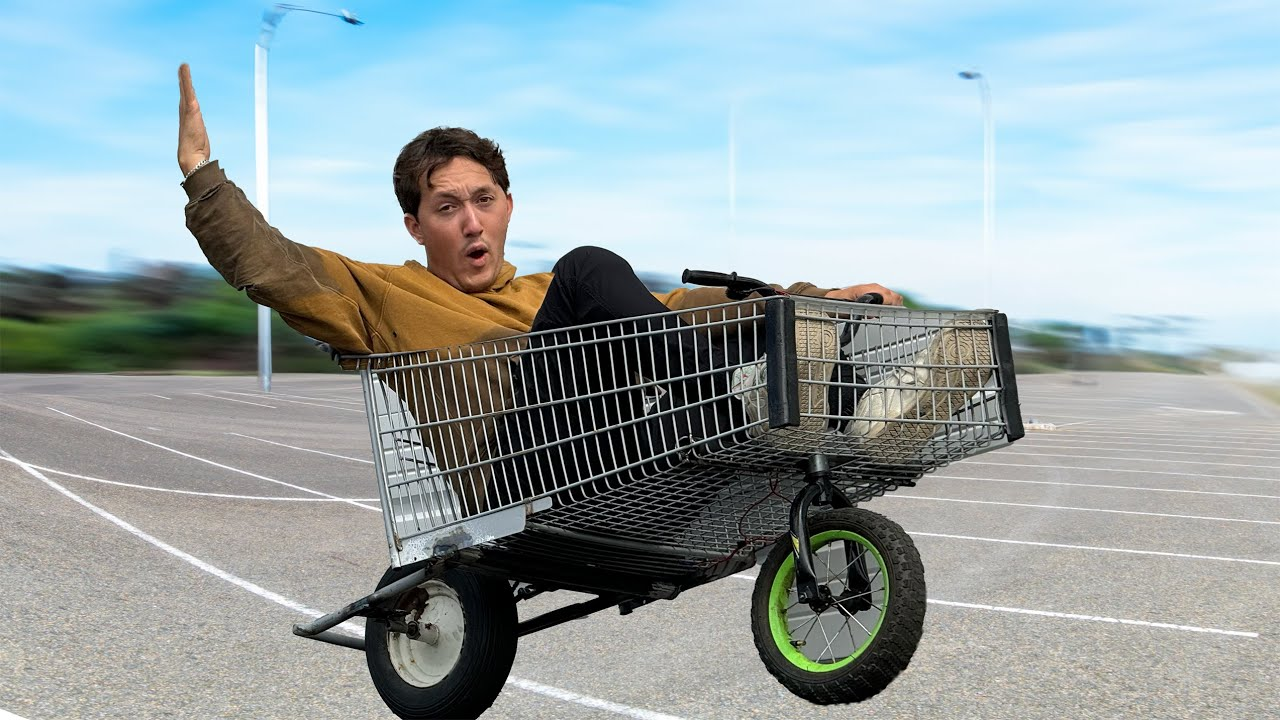Person: (168, 66, 926, 375)
shopping_cart: (331, 285, 1067, 720)
